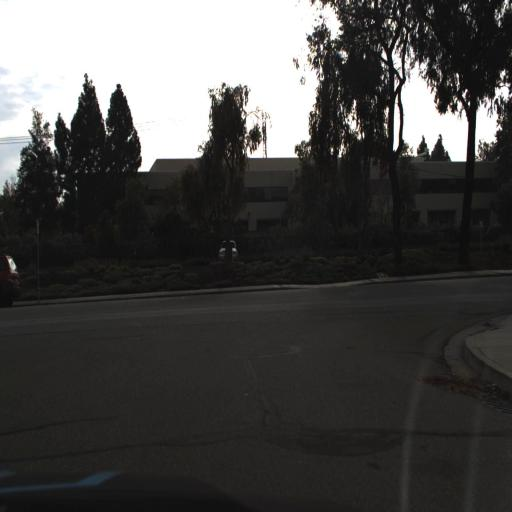car: (218, 236, 241, 265)
